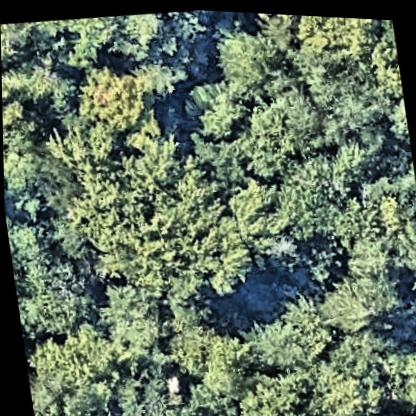tree-top: (49, 93, 256, 317), (261, 34, 381, 153), (305, 216, 408, 343), (6, 217, 101, 343), (276, 137, 377, 243), (160, 304, 254, 400), (234, 286, 336, 371), (220, 170, 302, 272), (2, 123, 87, 219), (115, 5, 206, 83), (227, 92, 302, 184), (93, 272, 165, 367), (208, 9, 286, 94), (254, 10, 382, 60), (74, 62, 156, 140), (20, 11, 118, 76), (361, 15, 408, 142), (320, 320, 398, 392), (183, 68, 252, 146), (301, 353, 383, 416), (1, 54, 82, 116), (102, 361, 191, 416), (225, 360, 311, 416), (21, 338, 91, 390), (25, 372, 103, 416), (375, 213, 416, 295), (378, 333, 416, 413), (0, 22, 30, 75)
